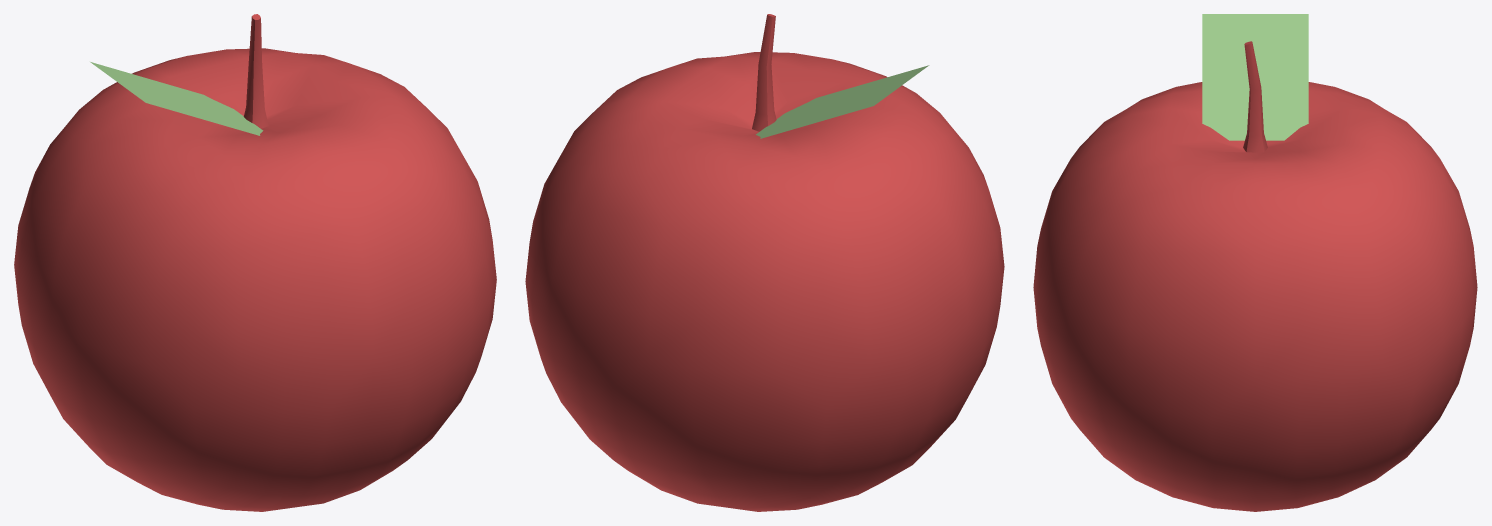
File: Apple01.fbx
3 renders of one model, left to right at view 1: azimuth 30°, elevation 25°; view 2: azimuth 150°, elevation 25°; view 3: azimuth 270°, elevation 25°, orthographic. The views are drawn at different scales.
Visible parts, largest first — view 1: Apple; view 2: Apple; view 3: Apple.
Boxes of the visible parts, <box> form: Apple: <box>14,14,496,511</box>; Apple: <box>525,14,1004,511</box>; Apple: <box>1033,14,1477,511</box>.
Bounding box in the file's own units: 6.77 × 7.49 × 6.77.
